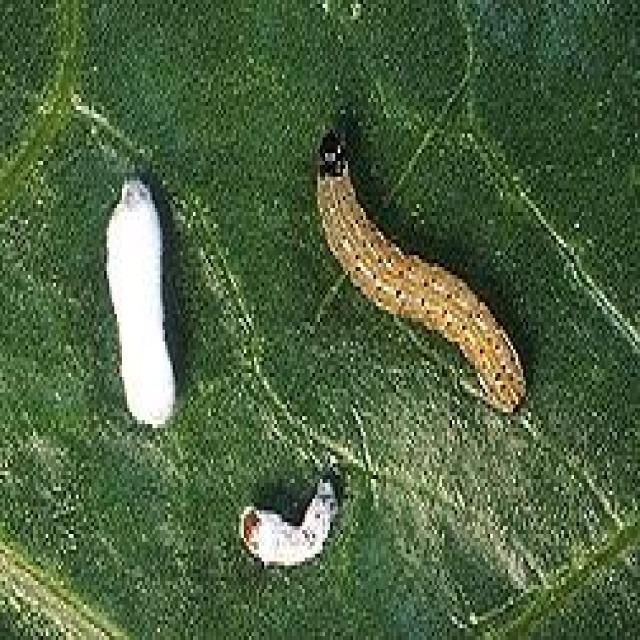BeetArmyWorm-Larva-: (296, 130, 546, 428)
